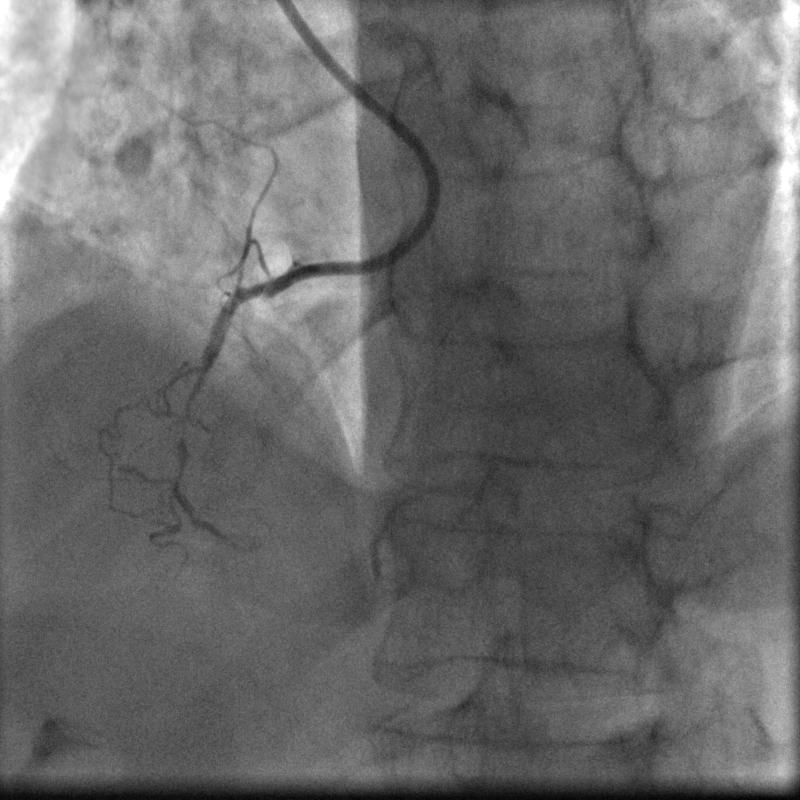Stenosis: (197, 342, 220, 399)
